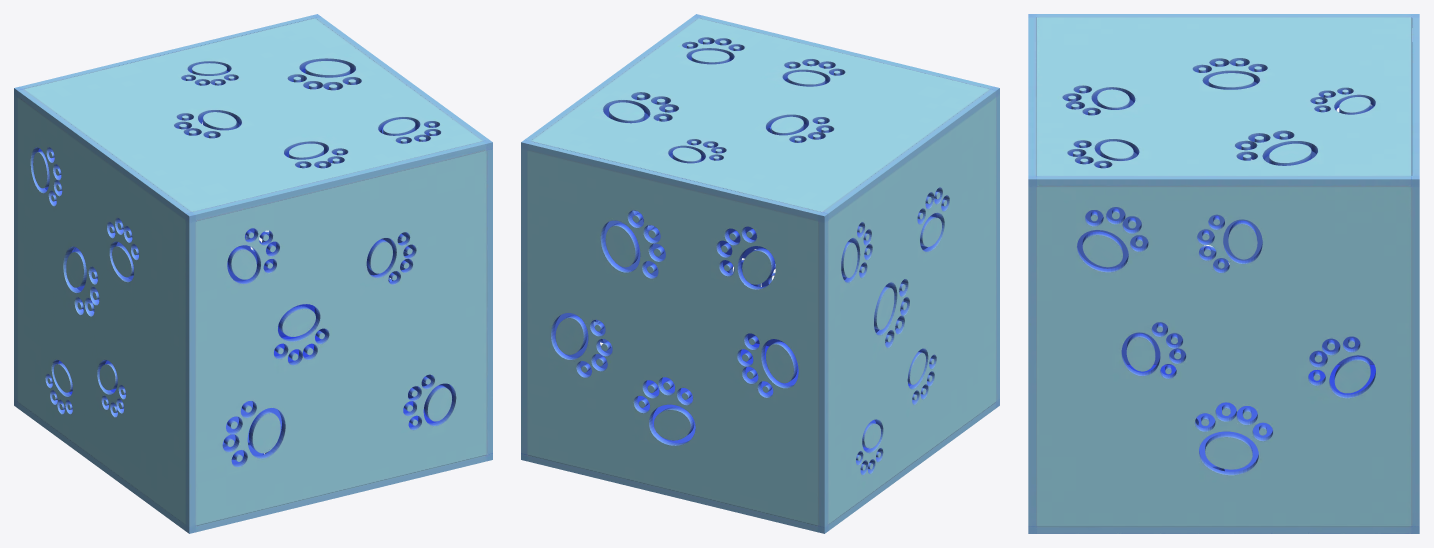
The model's file is paw_room.glb.
The picture shows the model from 3 angles, left to right: view 1: azimuth 30°, elevation 25°; view 2: azimuth 150°, elevation 25°; view 3: azimuth 270°, elevation 25°; orthographic projection. The views are drawn at different scales.
Parts seen in each view (by area): view 1: room_y-, room_x-, room_z+, room_z-, room_x+, room_y+; view 2: room_y+, room_x-, room_z+, room_x+, room_z-, room_y-; view 3: room_x+, room_z+, room_z-, room_x-, room_y-, room_y+.
Part boxes in pixels (x1,y1,x2,y2): room_y-: (185,140,490,533); room_x-: (14,89,195,533); room_z+: (14,18,492,221); room_z-: (14,335,492,533); room_x+: (311,14,492,459); room_y+: (14,14,320,407); room_y+: (522,139,828,533); room_x-: (818,86,999,533); room_z+: (527,18,999,222); room_x+: (521,14,702,460); room_z-: (521,343,996,533); room_y-: (693,14,999,407); room_x+: (1028,176,1419,526); room_z+: (1028,17,1419,186); room_z-: (1028,364,1419,533); room_x-: (1028,14,1419,364); room_y-: (1028,14,1036,533); room_y+: (1411,14,1419,533).
Size of the model in its own units: 16.7 by 16.7 by 16.7.
6 materials, 6 textured.
